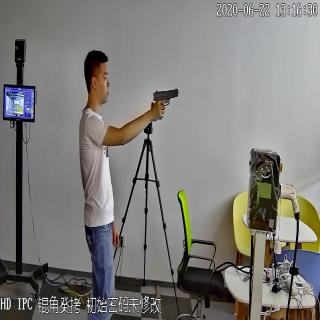gun: (151, 84, 179, 120)
